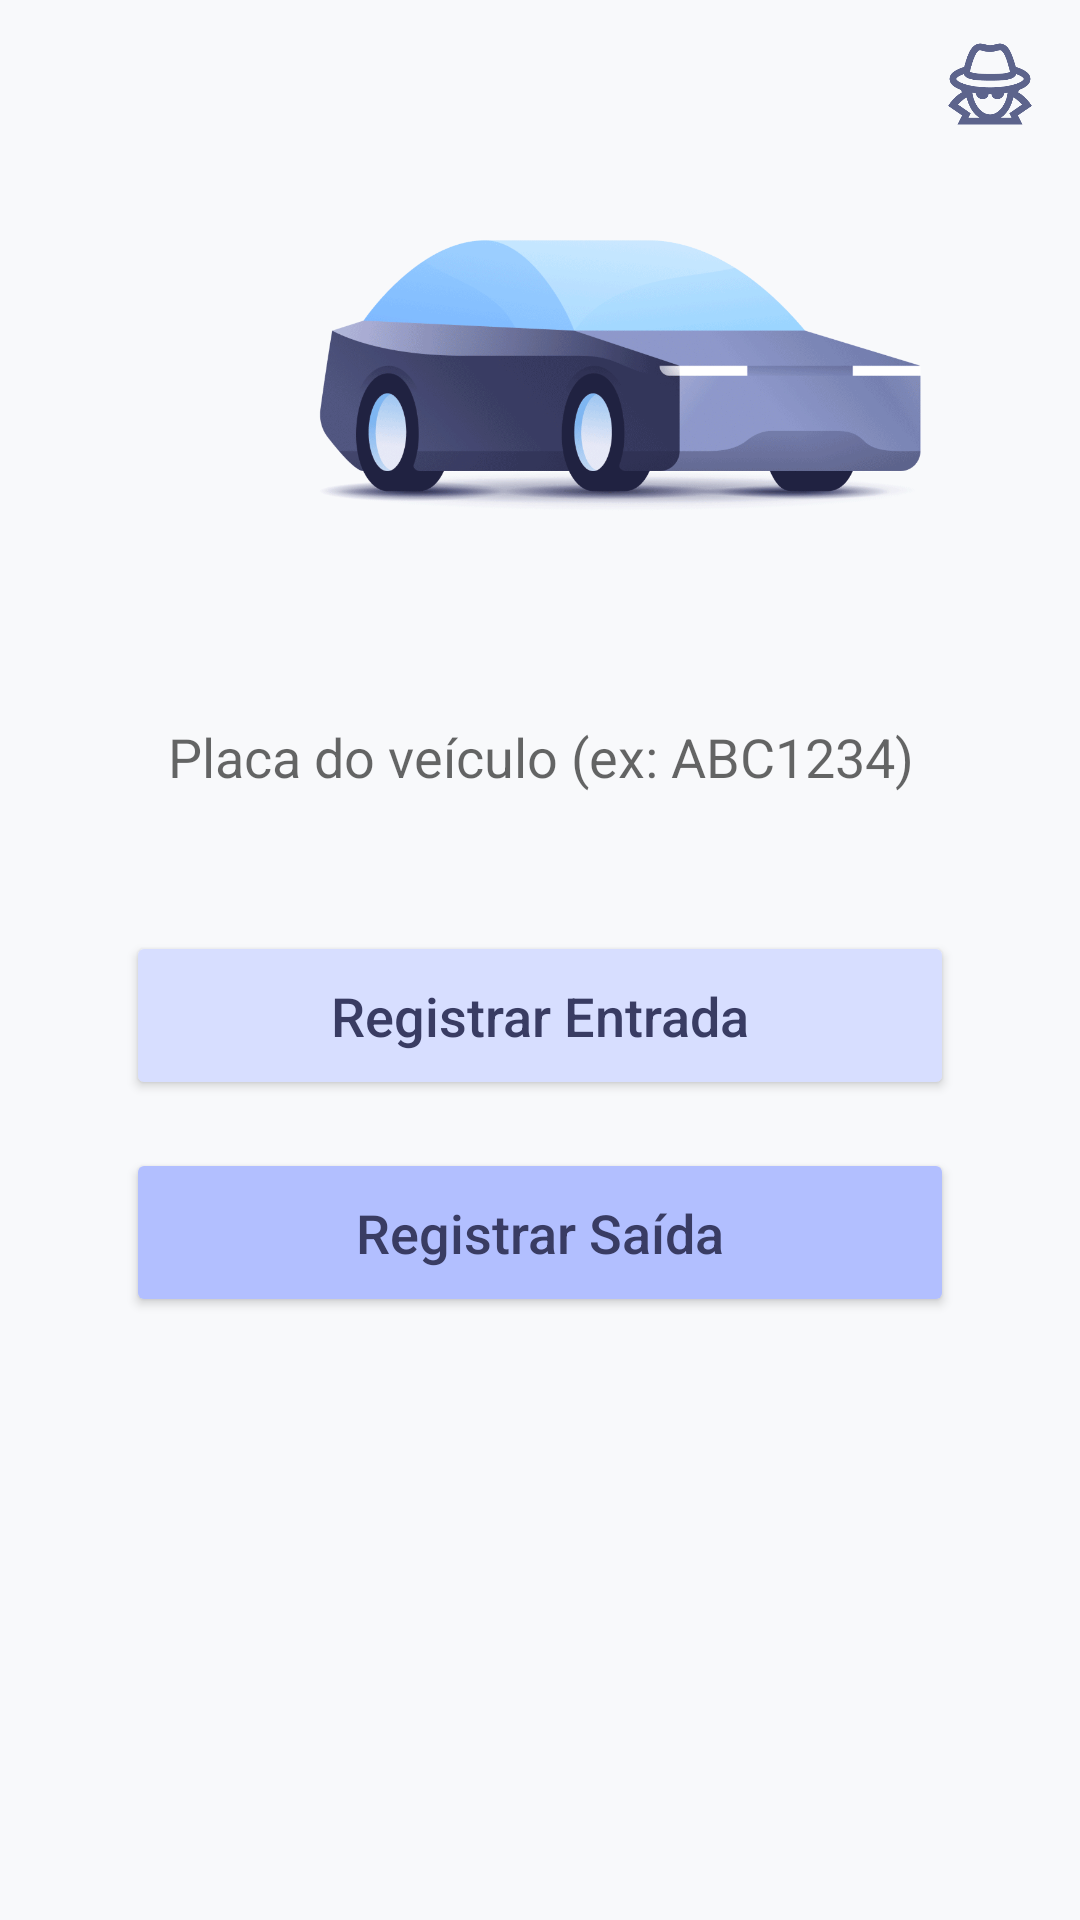

Screen size 1080w x 1920h. Icon name, then its box in pixels as (x1, y1, x2, y2):
secreta: (948, 43, 1032, 125)
